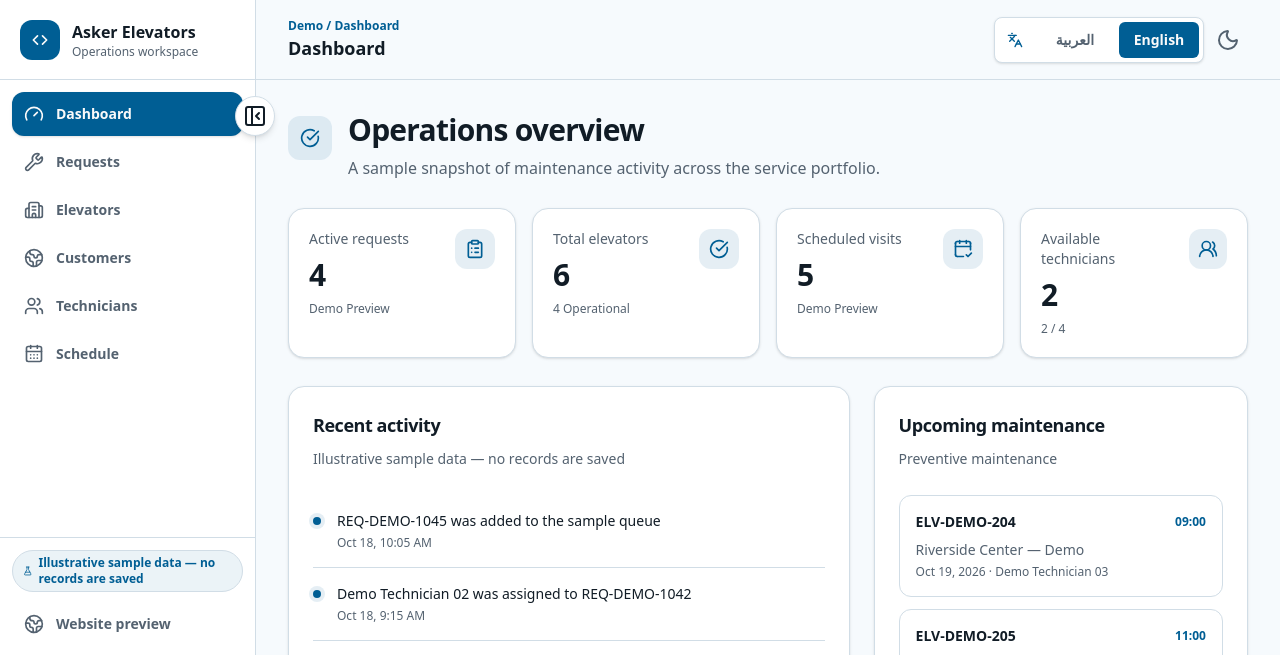
interactive frontend preview › navigates between demo routes without a page reload
Check: the heading "Operations overview" is shown, box [348,109,644,150]
Click the link "Requests" at (72, 162), box [24,152,120,172]
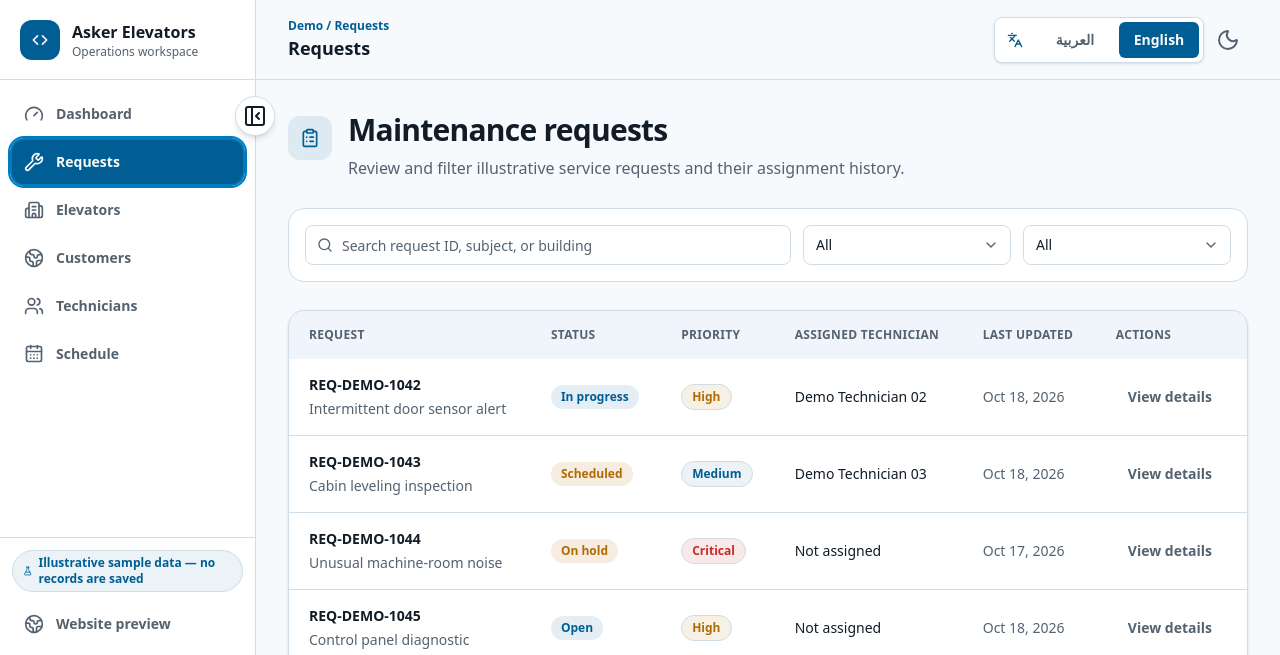
Check: the heading "Maintenance requests" is shown, box [348,109,668,150]
